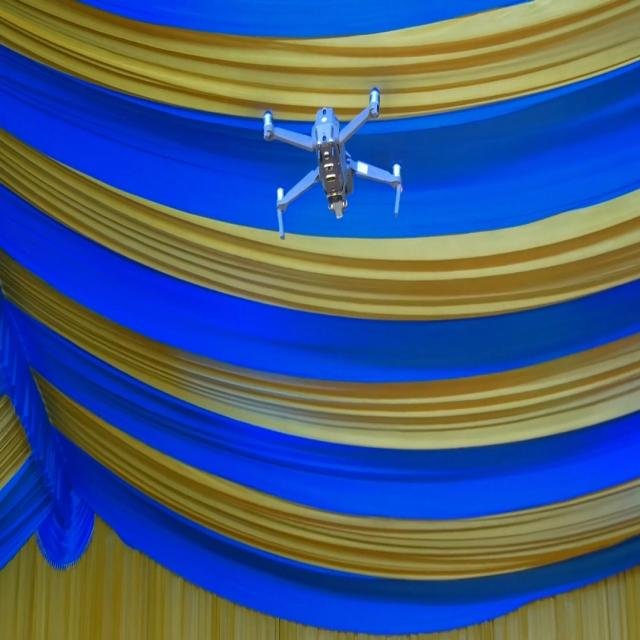Drone: (257, 89, 405, 245)
